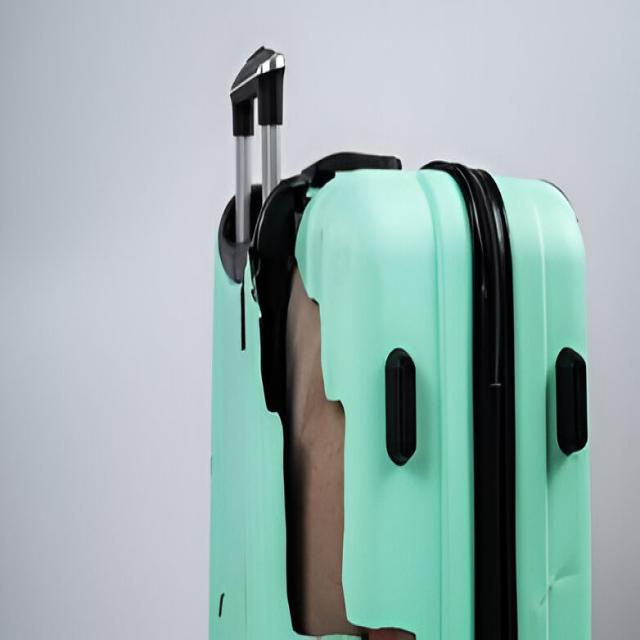Damage-bag: (249, 154, 412, 638), (241, 283, 245, 349), (219, 594, 223, 613)
